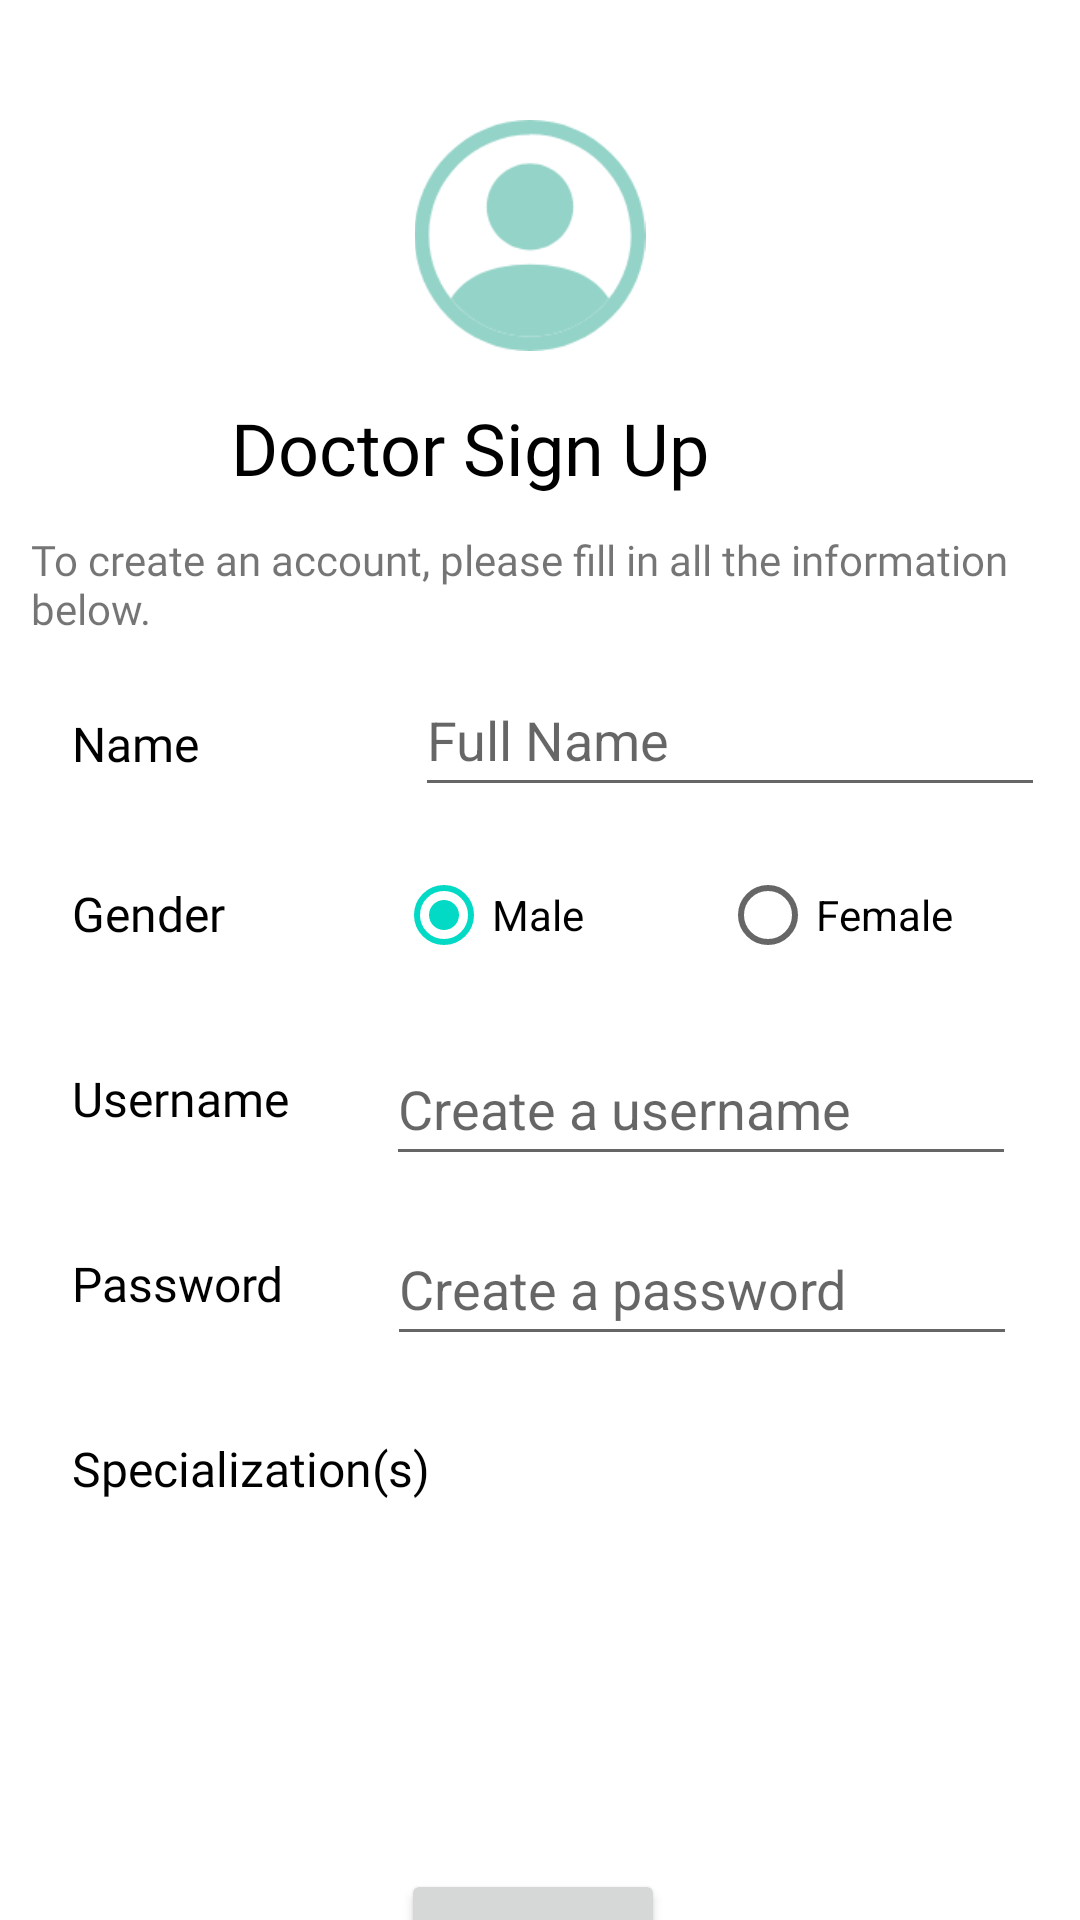

Where icons sit on this 1080 x 1920 app screen, as detection(x1, y1, x2, y2):
person circle: detection(415, 120, 646, 351)
